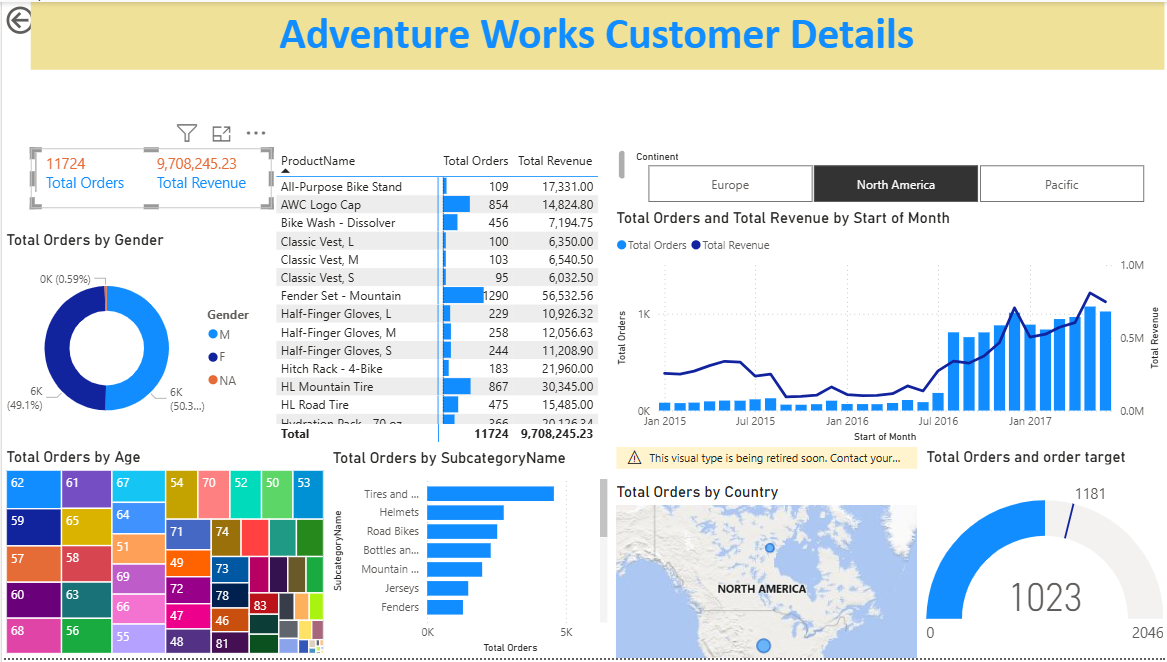

What the dashboard file says about the page in this screenshot:
{"tool":"powerbi","page":{"name":"Page 1","canvas":[1280,720],"ordinal":0},"visuals":[{"type":"donutChart","fields":{"Category":["Customers.Gender"],"Y":["Sales.Total Orders"]},"box":[0,251.1,296.4,237.4],"z":0},{"type":"pivotTable","fields":{"Values":["Sales.Total Orders","Sales.Total Revenue"],"Rows":["Products.ProductName"]},"box":[296.4,157.8,393.8,330.7],"z":1000},{"type":"multiRowCard","fields":{"Values":["Sales.Total Orders","Sales.Total Revenue"]},"box":[31.6,160.5,264.8,65.9],"z":2000},{"type":"actionButton","box":[0,0,100,40],"z":3000},{"type":"lineClusteredColumnComboChart","fields":{"Y":["Sales.Total Orders"],"Y2":["Sales.Total Revenue"],"Category":["Calendar.Start of Month"]},"box":[669.6,226.4,607.9,262.1],"z":4000},{"type":"treemap","fields":{"Group":["Customers.Age"],"Values":["Sales.Total Orders"]},"box":[0,488.5,358.1,231.9],"z":5000},{"type":"clusteredBarChart","fields":{"Category":["Product_Subcategories.SubcategoryName"],"Y":["Sales.Total Orders"]},"box":[358.1,489.9,311.5,230.5],"z":6000},{"type":"map","fields":{"Category":["Territories.Country"],"Size":["Sales.Total Orders"]},"box":[669.6,488.5,340.3,231.9],"z":7000},{"type":"slicer","fields":{"Values":["Territories.Continent"]},"box":[683.4,157.8,594.2,68.6],"z":8000},{"type":"gauge","fields":{"Y":["Sales.Total Orders"],"TargetValue":["Sales.order target"]},"box":[1010,488.5,270.3,231.9],"z":9000},{"type":"textbox","box":[31.6,0,1246,74.1],"z":10000}]}

Visuals, with their boxes on the page's 1280x720 design canvas (x1, y1, x2, y2). These are canvas units, not pixel positions in the 1167x662 screenshot, which may show the page scaled, cropped or inside an application window:
donutChart - Customers.Gender x Sales.Total Orders: [x1=0, y1=251, x2=296, y2=488]
pivotTable - Sales.Total Orders x Sales.Total Revenue: [x1=296, y1=158, x2=690, y2=488]
multiRowCard - Sales.Total Orders x Sales.Total Revenue: [x1=32, y1=160, x2=296, y2=226]
actionButton: [x1=0, y1=0, x2=100, y2=40]
lineClusteredColumnComboChart - Sales.Total Orders x Sales.Total Revenue: [x1=670, y1=226, x2=1278, y2=488]
treemap - Customers.Age x Sales.Total Orders: [x1=0, y1=488, x2=358, y2=720]
clusteredBarChart - Product_Subcategories.SubcategoryName x Sales.Total Orders: [x1=358, y1=490, x2=670, y2=720]
map - Territories.Country x Sales.Total Orders: [x1=670, y1=488, x2=1010, y2=720]
slicer - Territories.Continent: [x1=683, y1=158, x2=1278, y2=226]
gauge - Sales.Total Orders x Sales.order target: [x1=1010, y1=488, x2=1280, y2=720]
textbox: [x1=32, y1=0, x2=1278, y2=74]
